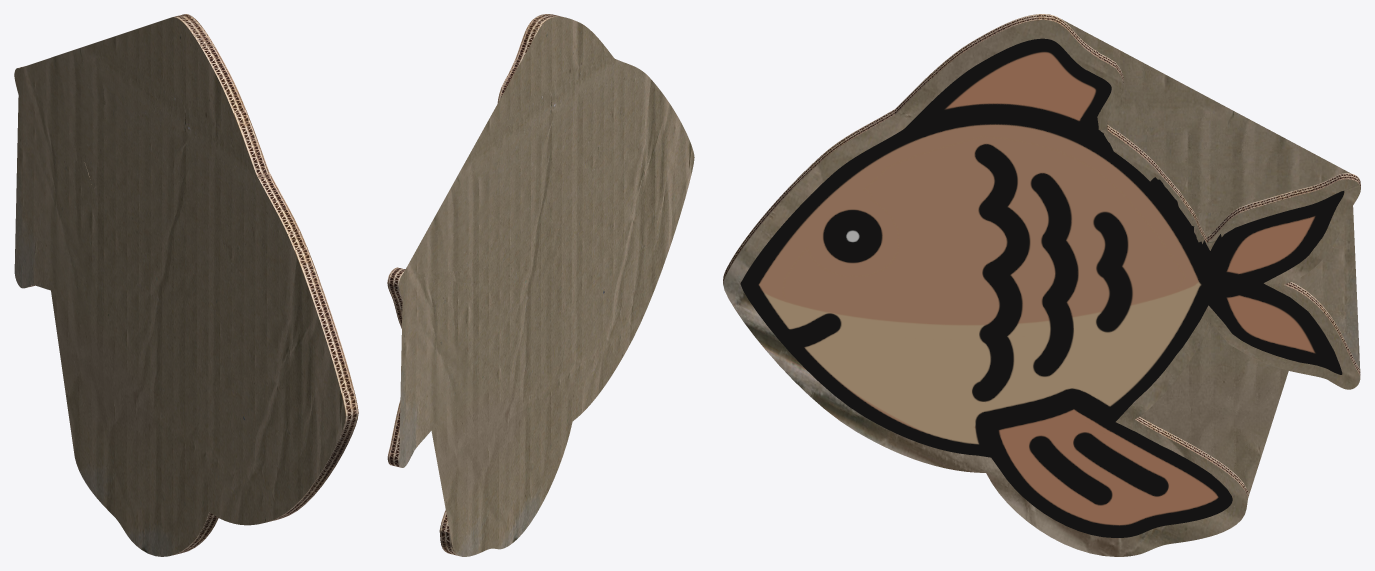
The model's file is fish_3_.fbx.
3 renders of one model, left to right at view 1: azimuth 30°, elevation 25°; view 2: azimuth 150°, elevation 25°; view 3: azimuth 270°, elevation 25°, orthographic. The views are drawn at different scales.
Visible parts, largest first — view 1: orange fishg.001; view 2: orange fishg.001; view 3: orange fishg.001.
Part boxes in pixels (x1,y1,x2,y2): orange fishg.001: [14, 14, 358, 556]; orange fishg.001: [387, 14, 694, 556]; orange fishg.001: [723, 14, 1360, 556].
Bounding box in the file's own units: 5.48 × 208 × 224.
3 materials, 3 textured.
